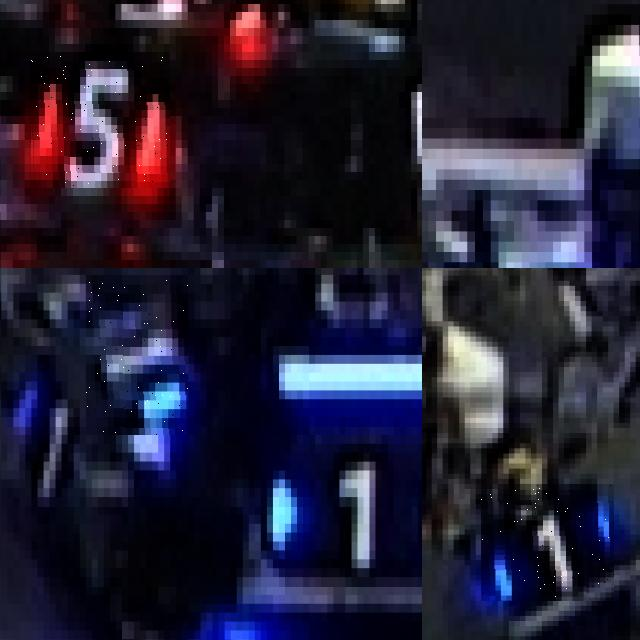B1: (261, 435, 422, 586), (86, 275, 188, 435), (481, 484, 614, 601), (7, 364, 80, 524)
R5: (30, 52, 170, 188)
